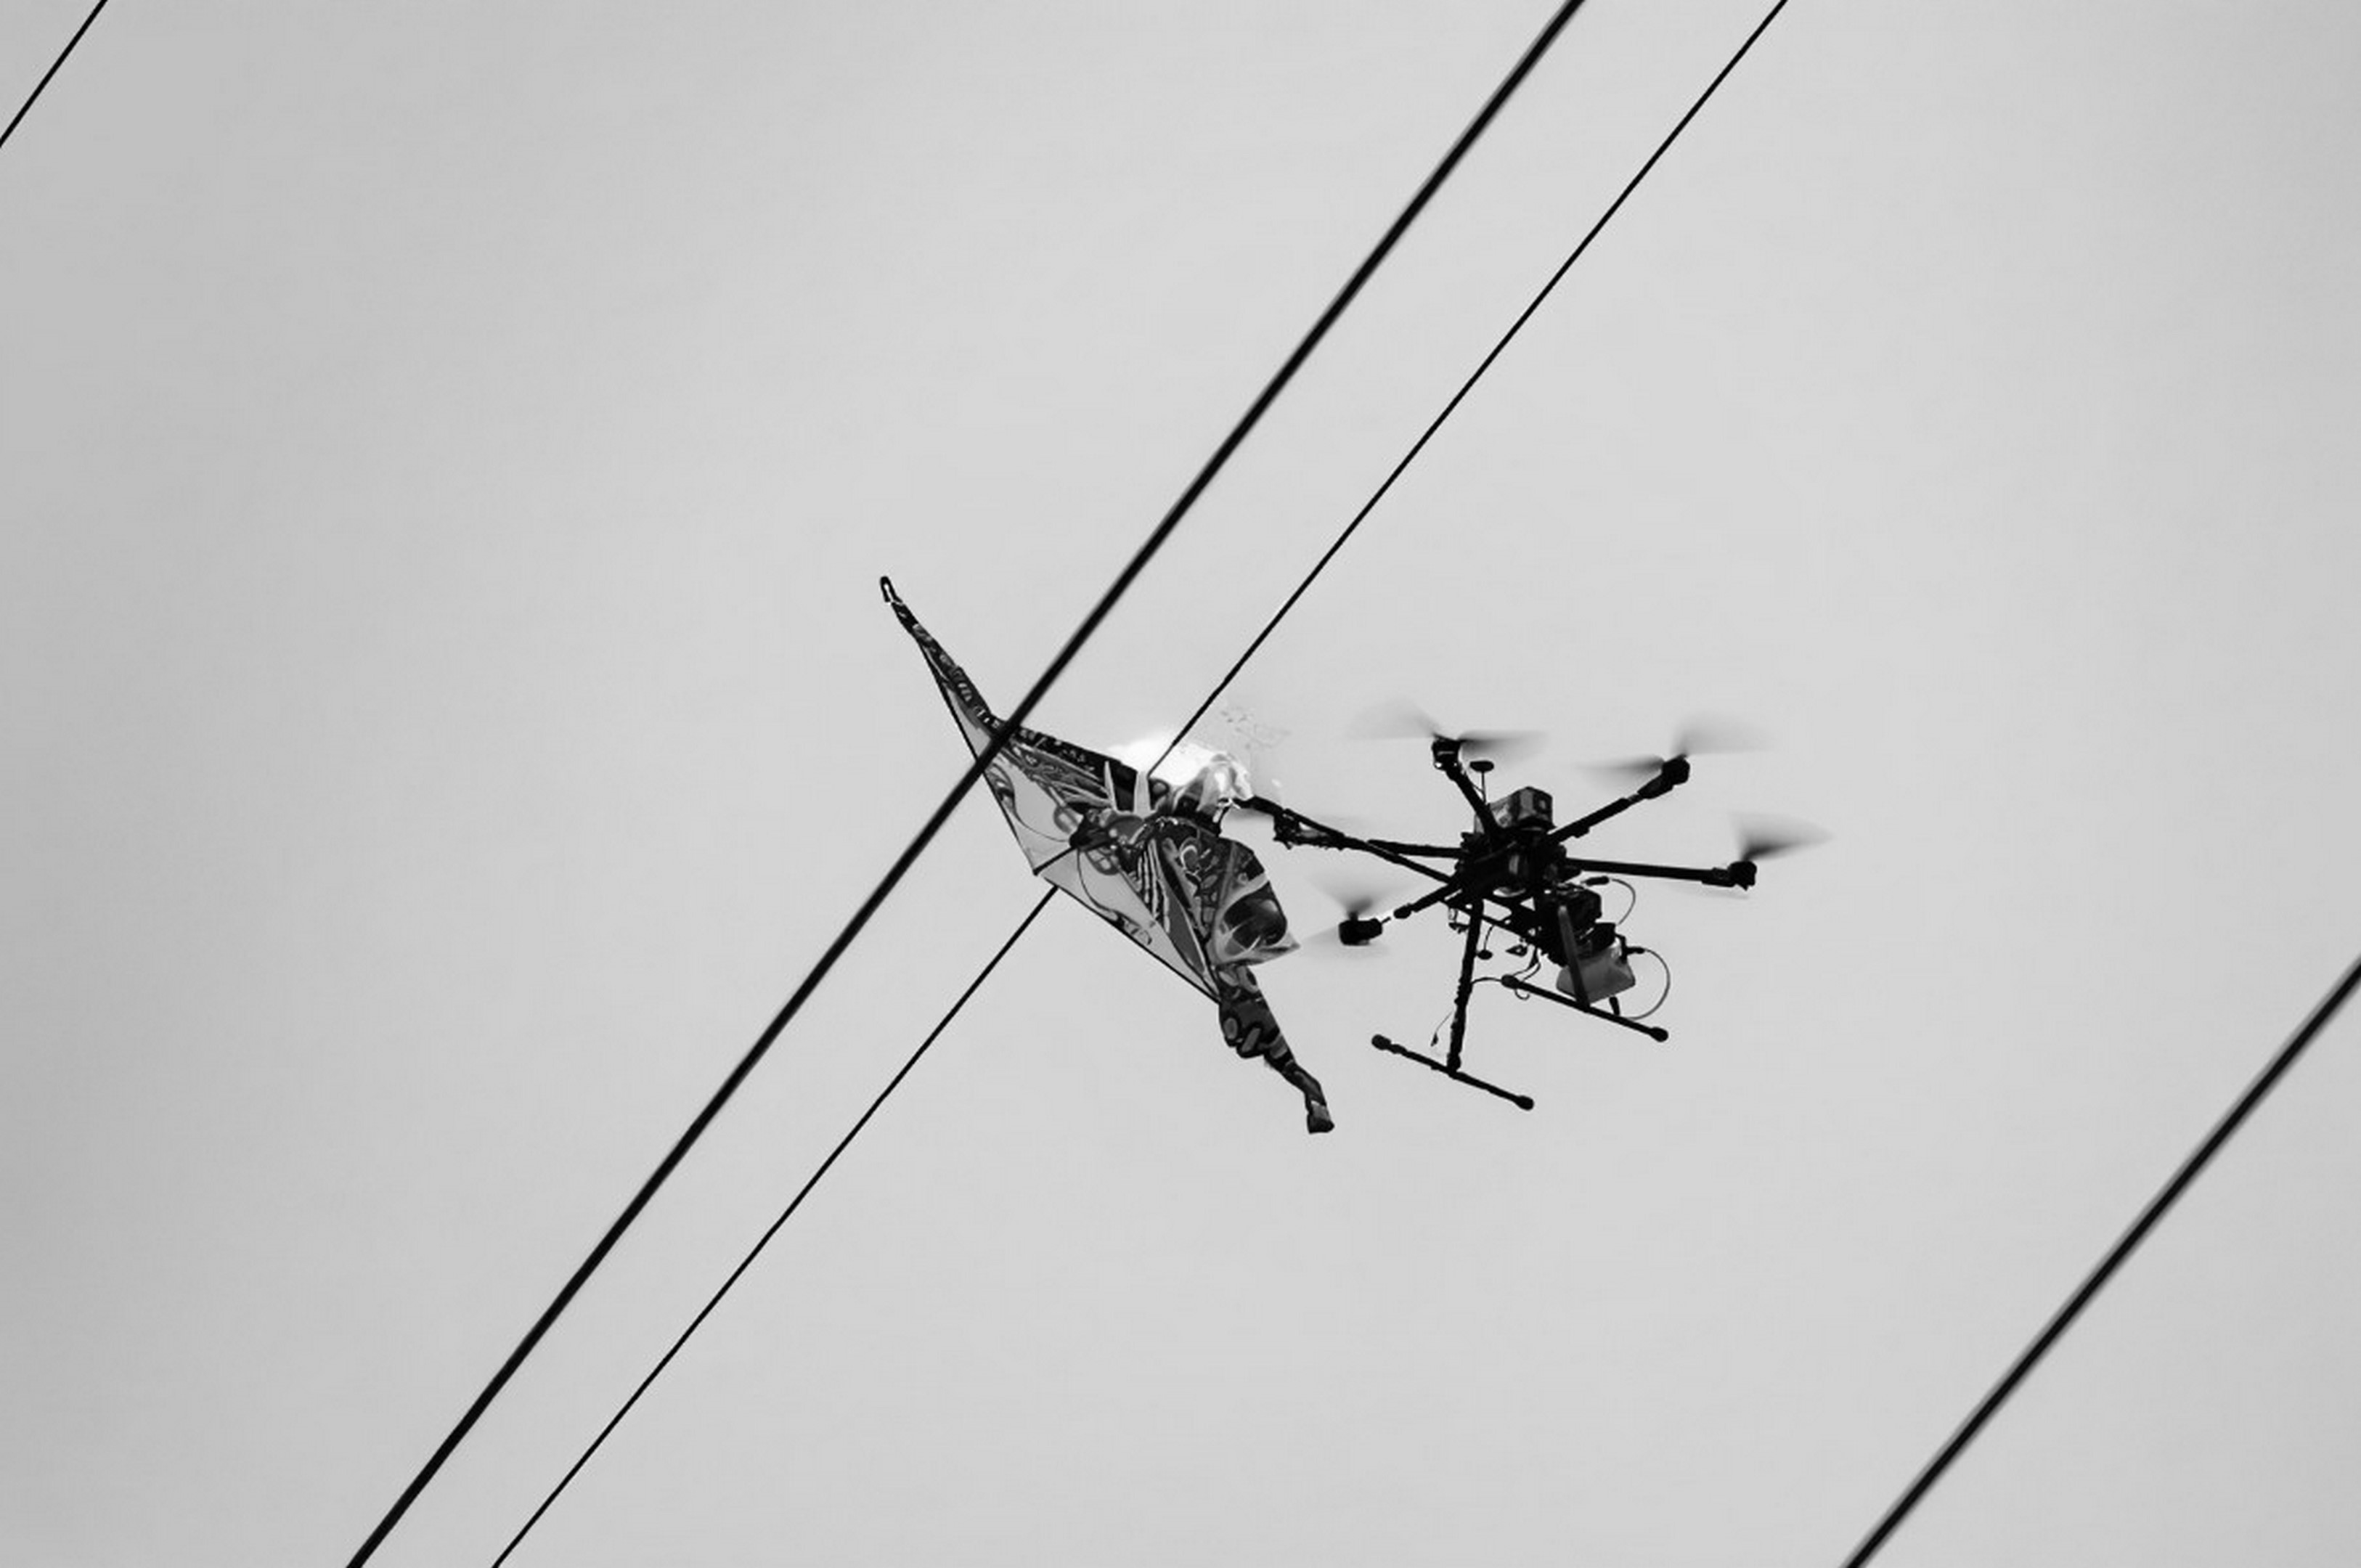wire foreign body: (863, 569, 1360, 1164)
